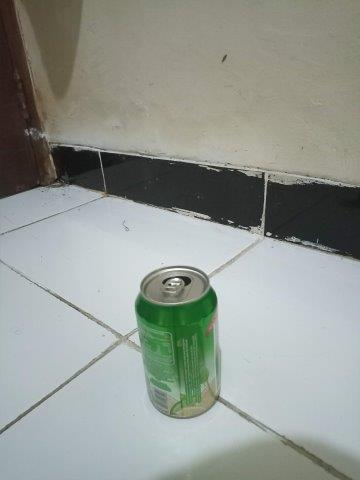kaleng: (135, 265, 222, 419)
